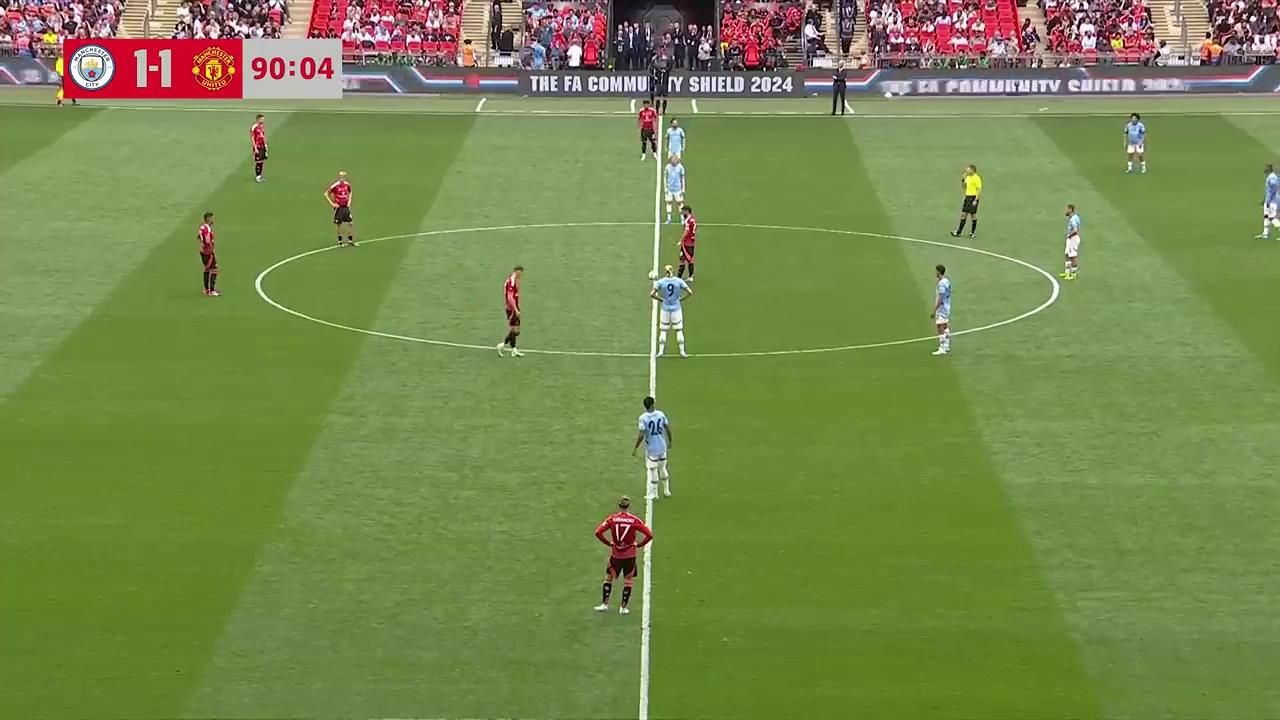player: (593, 495, 651, 613), (632, 398, 674, 498), (652, 265, 689, 358), (324, 170, 357, 248), (496, 265, 523, 358), (929, 264, 953, 353), (197, 212, 219, 297), (675, 206, 697, 290), (1257, 162, 1280, 240), (1061, 205, 1081, 281), (1123, 113, 1147, 174), (664, 154, 685, 221), (636, 101, 658, 161), (249, 114, 268, 182), (660, 118, 683, 160), (659, 113, 677, 161)
referee: (951, 163, 983, 238)
